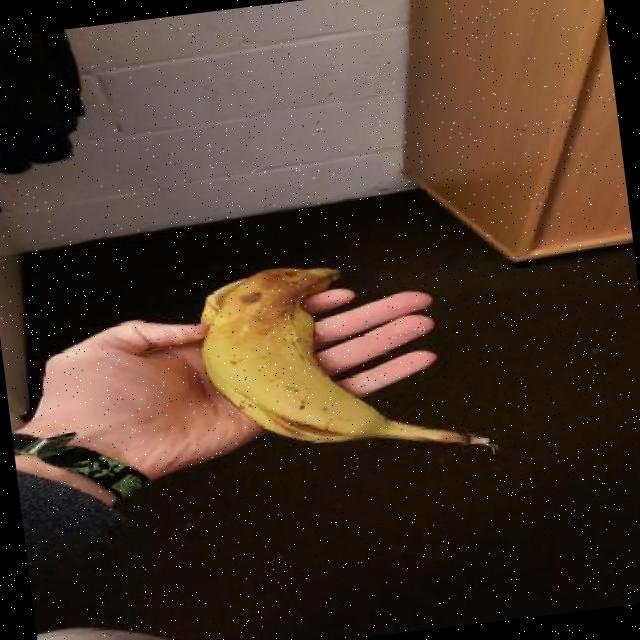banana-peel: (188, 240, 500, 491)
